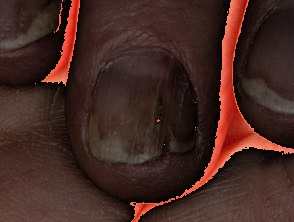Nail_psoriasis: (70, 12, 224, 187), (230, 0, 294, 125), (0, 0, 73, 62)
